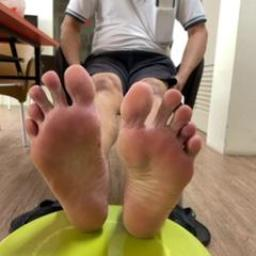Plantar View -Both Feet-: (10, 58, 220, 250)
